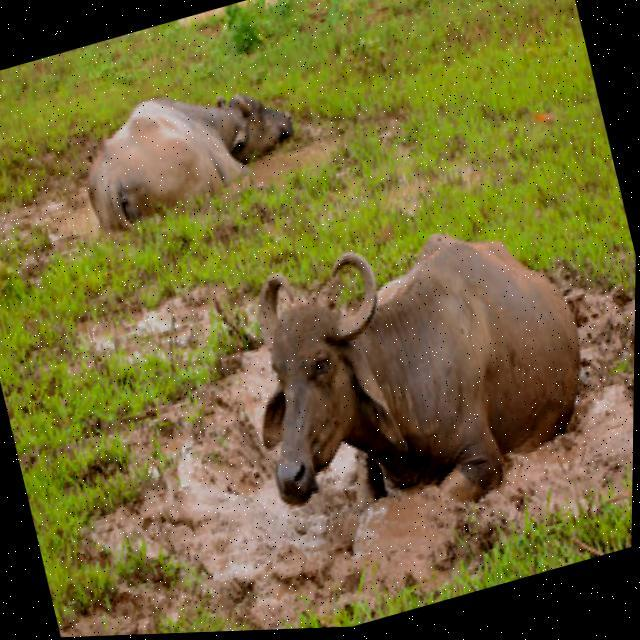Buffalo: (214, 182, 624, 586)
